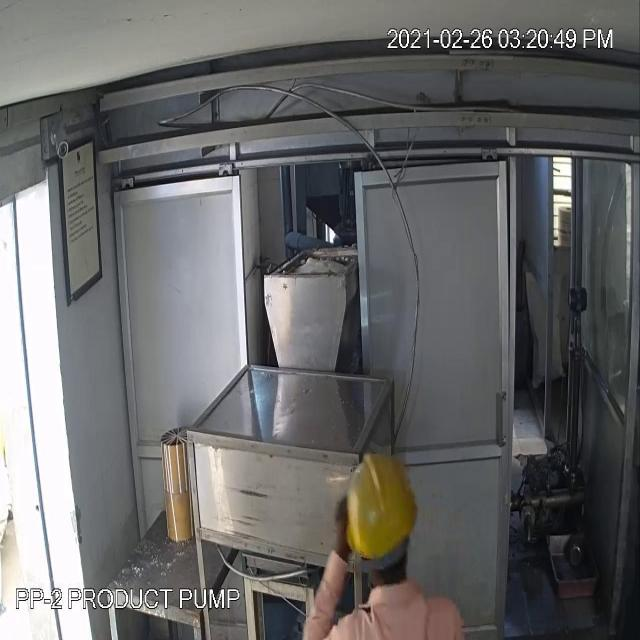helmet: (331, 447, 427, 571)
